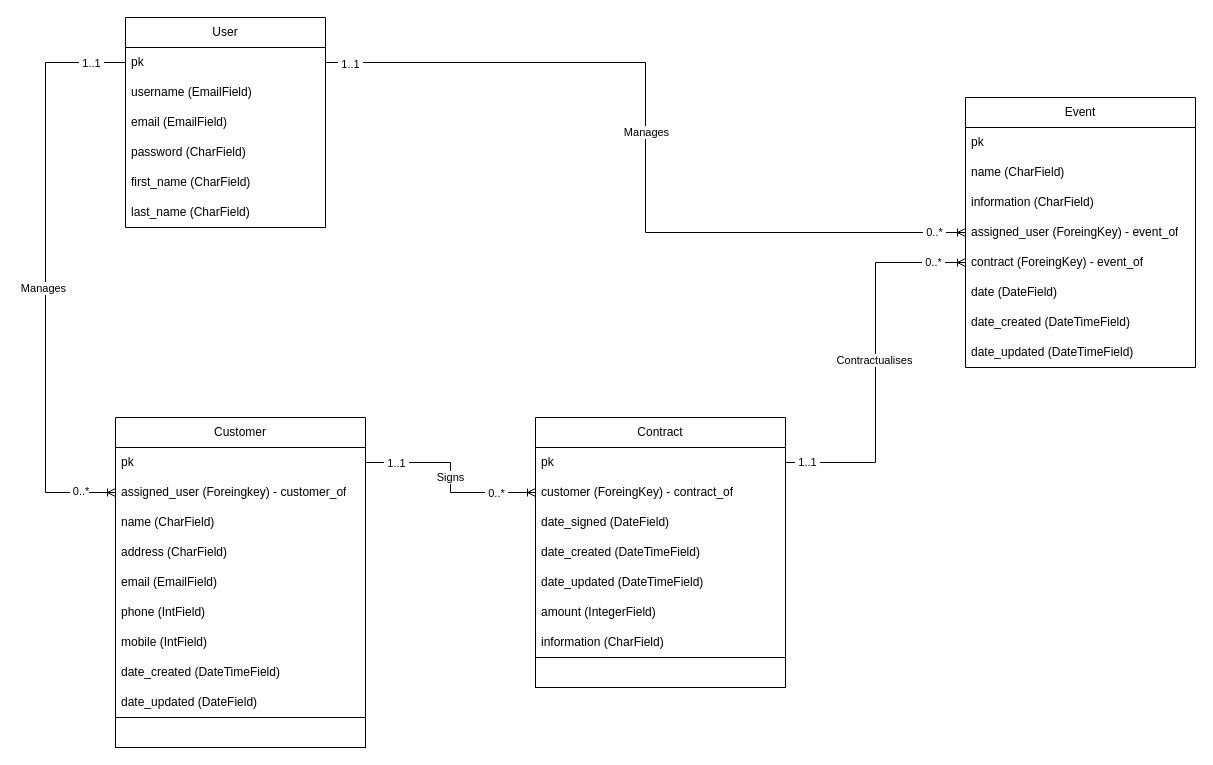
The diagram is 1213 pixels wide and 765 high, and some of its shapes have lost their labels. Each missing label, with the centre of its shape:
"is_signed (property)" belongs at point 660,672.
"new_customer (property)" belongs at point 240,732.
